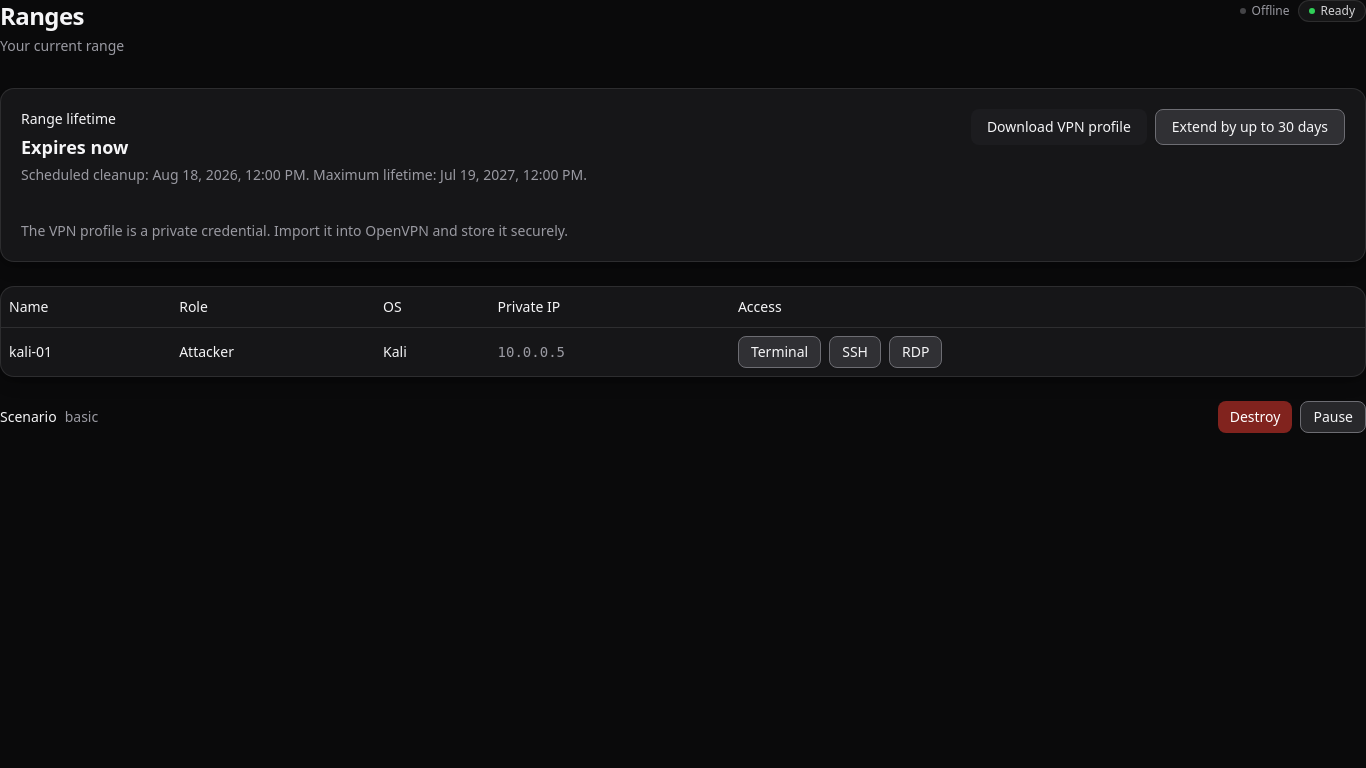
Test: RangeDashboardPage › confirms a server-bounded extension without sending a caller deadline
This screenshot has width=1366, height=768.
Click the button "Extend by up to 30 days" at [1250, 127], box [1155,109,1345,145]
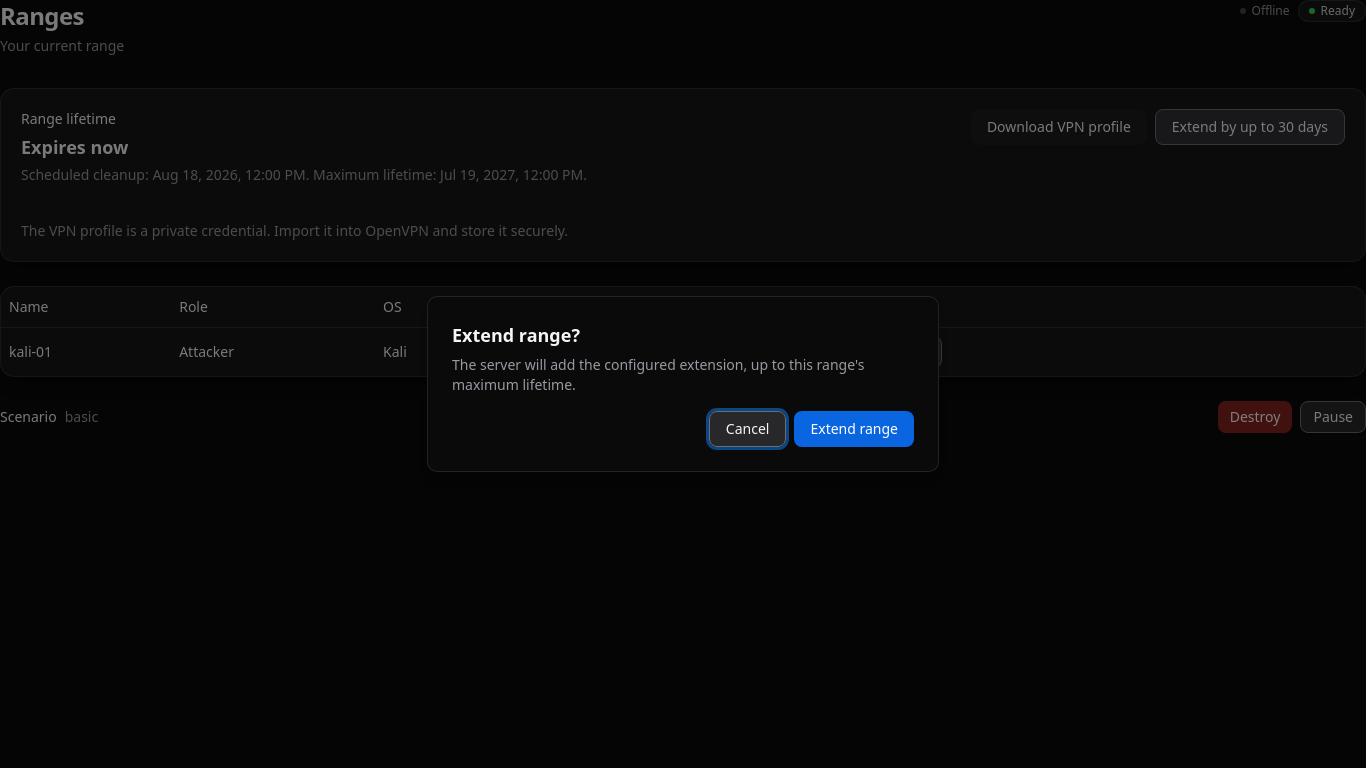
Click the button "Extend range" at [854, 429], box [794,411,914,447]
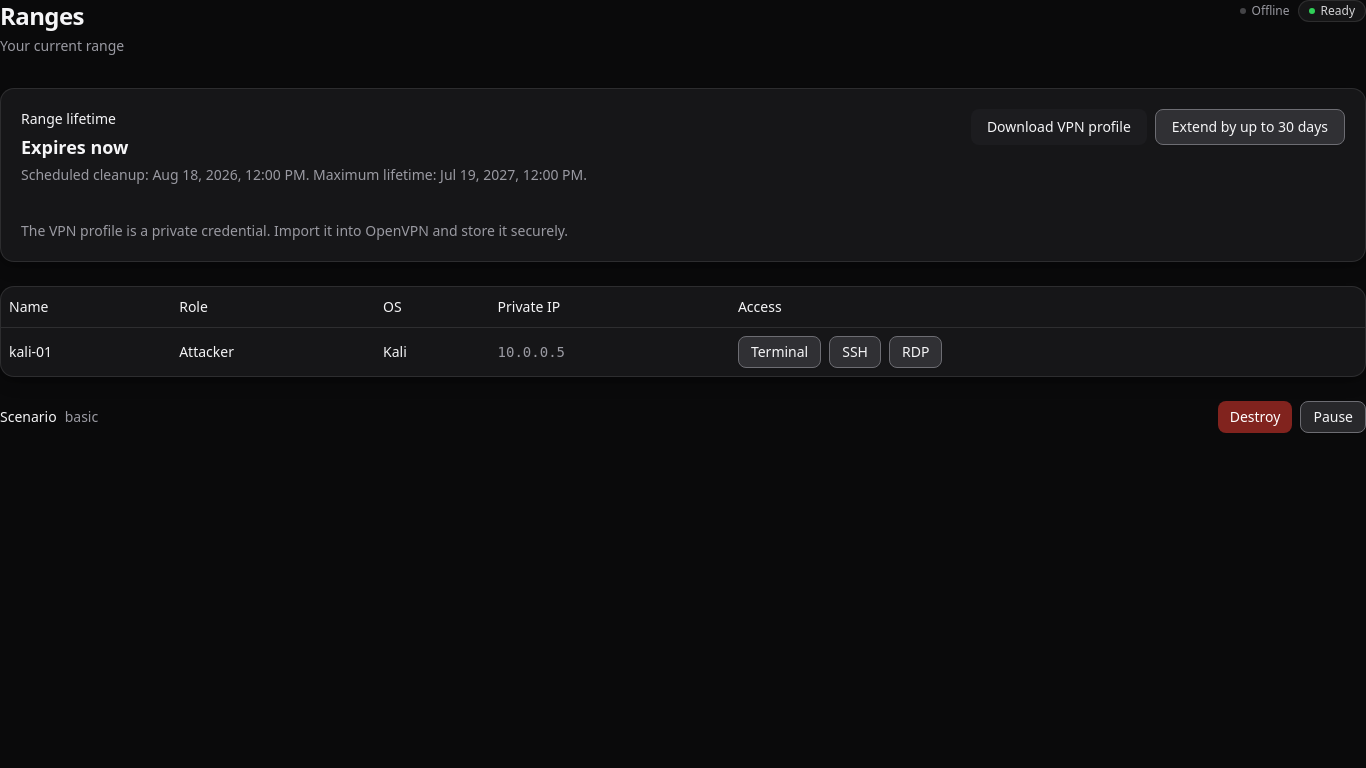
Expected: the dialog is gone
